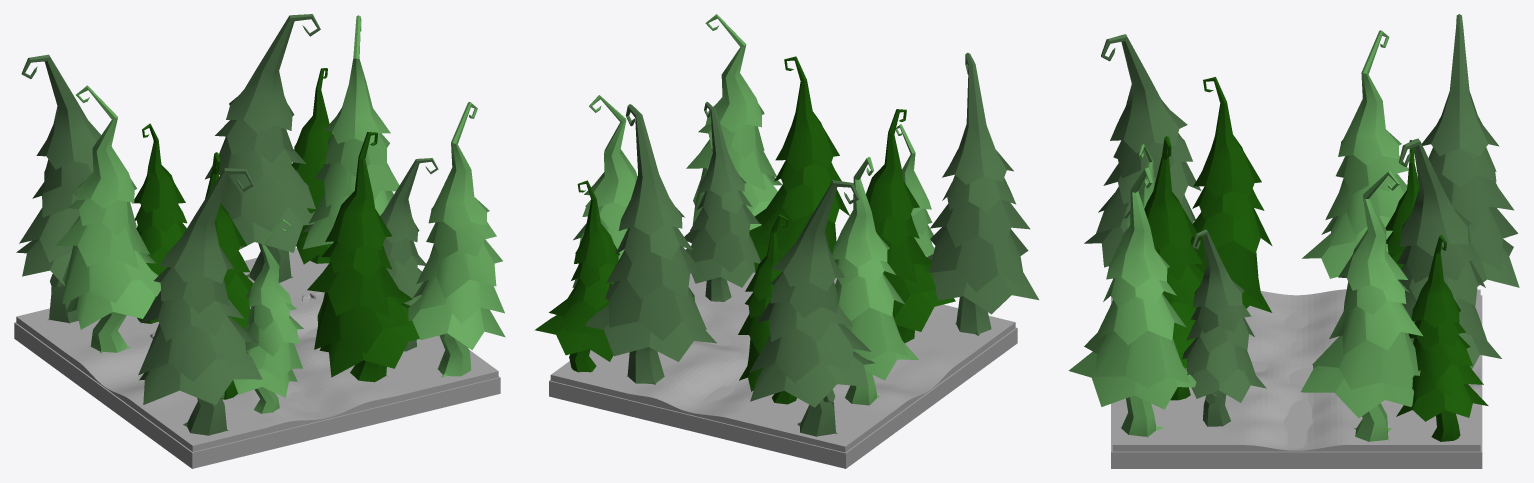
Rendered from Foret_labyrinth05_v1.fbx.
3 renders of one model, left to right at view 1: azimuth 30°, elevation 25°; view 2: azimuth 150°, elevation 25°; view 3: azimuth 270°, elevation 25°, orthographic. The views are drawn at different scales.
Parts seen in each view (by area): view 1: sol42, sapin48, sapin47, sapin44, sapin39, sapin46, sol41, sapin41, sapin43, sapin49, sapin40, sapin45 (+2 smaller); view 2: sol42, sapin44, sapin41, sapin48, sapin39, sol41, sapin47, sapin45, sapin50, sapin46, sapin42, sapin43 (+2 smaller); view 3: sol42, sapin46, sapin43, sapin41, sol41, sapin39, sapin44, sapin50, sapin48, sapin45, sapin42, sapin47 (+2 smaller).
Part boxes in pixels (bbox=[...]): sol42: bbox=[16, 248, 498, 451]; sapin48: bbox=[138, 168, 262, 435]; sapin47: bbox=[307, 132, 419, 382]; sapin44: bbox=[205, 14, 320, 282]; sapin39: bbox=[56, 85, 160, 353]; sapin46: bbox=[407, 102, 505, 377]; sol41: bbox=[14, 322, 500, 468]; sapin41: bbox=[16, 54, 111, 323]; sapin43: bbox=[302, 15, 399, 249]; sapin49: bbox=[233, 219, 303, 413]; sapin40: bbox=[132, 123, 187, 323]; sapin45: bbox=[380, 158, 438, 351]; sol42: bbox=[550, 272, 1015, 452]; sapin44: bbox=[585, 104, 716, 384]; sapin41: bbox=[749, 180, 875, 436]; sapin48: bbox=[927, 52, 1038, 335]; sapin39: bbox=[832, 157, 918, 405]; sol41: bbox=[549, 327, 1017, 468]; sapin47: bbox=[749, 56, 849, 272]; sapin45: bbox=[684, 102, 760, 301]; sapin50: bbox=[866, 109, 955, 342]; sapin46: bbox=[686, 14, 782, 230]; sapin42: bbox=[534, 180, 619, 372]; sapin43: bbox=[572, 95, 637, 287]; sol42: bbox=[1112, 289, 1480, 451]; sapin46: bbox=[1068, 167, 1196, 437]; sapin43: bbox=[1301, 170, 1422, 441]; sapin41: bbox=[1422, 14, 1519, 287]; sol41: bbox=[1111, 295, 1482, 468]; sapin39: bbox=[1302, 30, 1408, 278]; sapin44: bbox=[1397, 138, 1501, 368]; sapin50: bbox=[1190, 77, 1272, 312]; sapin48: bbox=[1084, 34, 1201, 267]; sapin45: bbox=[1182, 229, 1266, 426]; sapin42: bbox=[1396, 235, 1488, 441]; sapin47: bbox=[1144, 136, 1203, 400].
Bounding box in the file's own units: 952 × 714 × 973.
